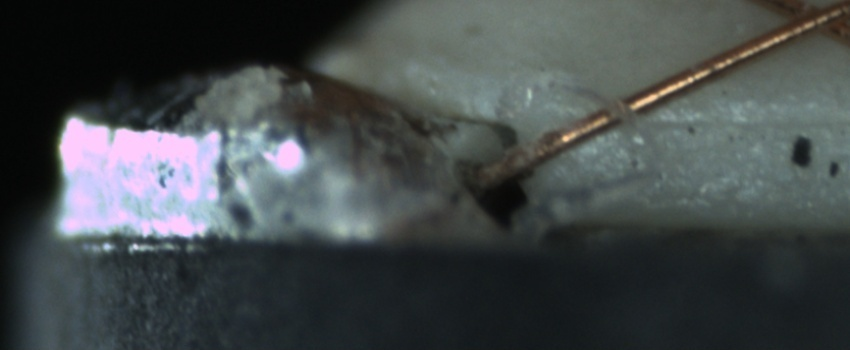CL: (763, 0, 847, 44)
DL: (630, 92, 850, 152)
